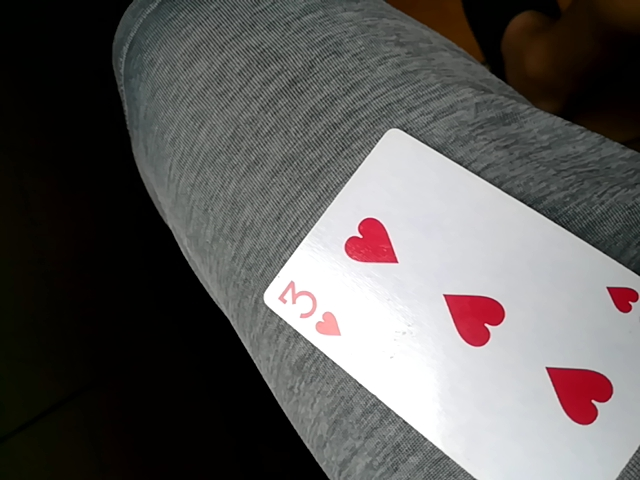hx 3: (261, 130, 637, 480)
